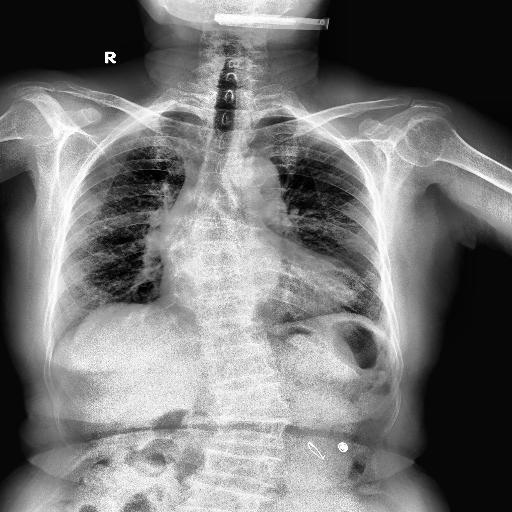0- Aortic enlargement: (224, 156, 282, 210), (231, 158, 281, 201), (230, 158, 281, 196)
13- Pulmonary fibrosis: (98, 180, 124, 202)
3- Cardiomegaly: (160, 248, 364, 316), (156, 264, 362, 321), (160, 261, 362, 318)
7- Lung Opacity: (72, 303, 142, 333)
9- Other lesion: (72, 303, 142, 333)
